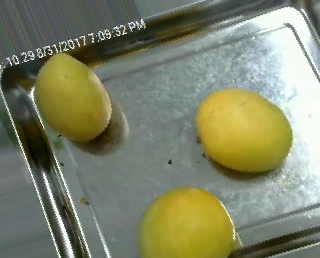Mango: (198, 85, 296, 175), (30, 47, 113, 142), (138, 187, 236, 257)
